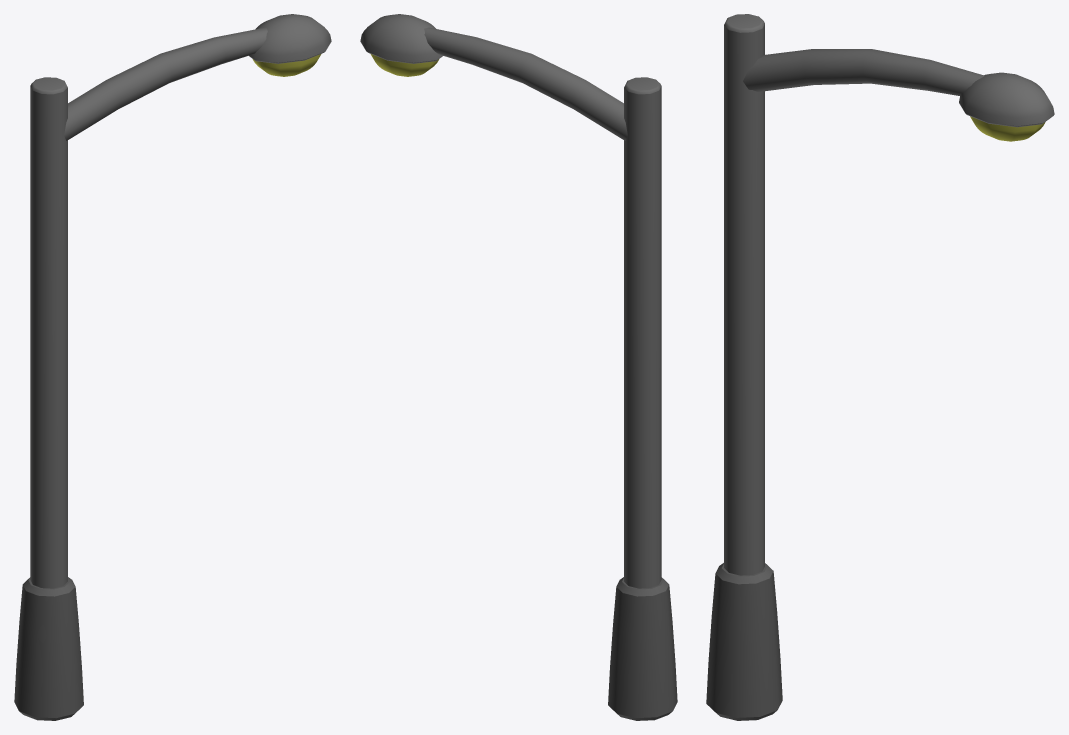
File: TrafficLamp.fbx
3 renders of one model, left to right at view 1: azimuth 30°, elevation 25°; view 2: azimuth 150°, elevation 25°; view 3: azimuth 330°, elevation 25°, orthographic. The views are drawn at different scales.
Visible parts, largest first — view 1: TrafficLamp; view 2: TrafficLamp; view 3: TrafficLamp.
Part boxes in pixels (x1,y1,x2,y2): TrafficLamp: (14, 14, 331, 720); TrafficLamp: (360, 14, 677, 720); TrafficLamp: (706, 14, 1054, 720).
Bounding box in the file's own units: 3.4 × 6.68 × 0.6618.
